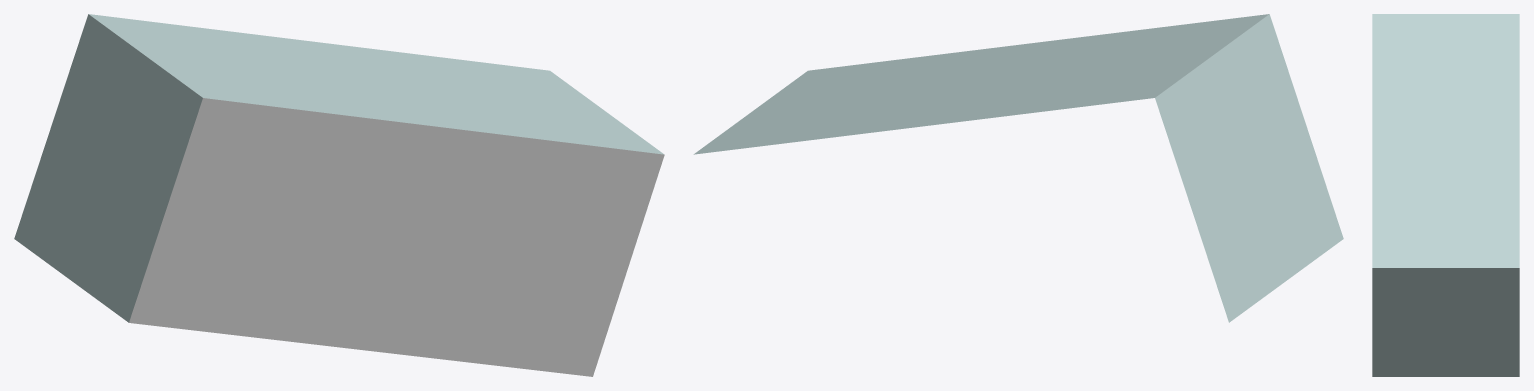
3 views of the same model, side by side, from view 1: azimuth 30°, elevation 25°; view 2: azimuth 150°, elevation 25°; view 3: azimuth 270°, elevation 25° (orthographic). The views are drawn at different scales.
Parts seen in each view (by area): view 1: 0_3_1_2_3_3_3_1; view 2: 0_3_1_2_3_3_3_1; view 3: 0_3_1_2_3_3_3_1.
Part boxes in pixels (<box>): 0_3_1_2_3_3_3_1: <box>14,14,664,376</box>; 0_3_1_2_3_3_3_1: <box>693,14,1343,322</box>; 0_3_1_2_3_3_3_1: <box>1372,14,1519,376</box>.
Size of the model in its own units: 8.09 by 5.4 by 3.
